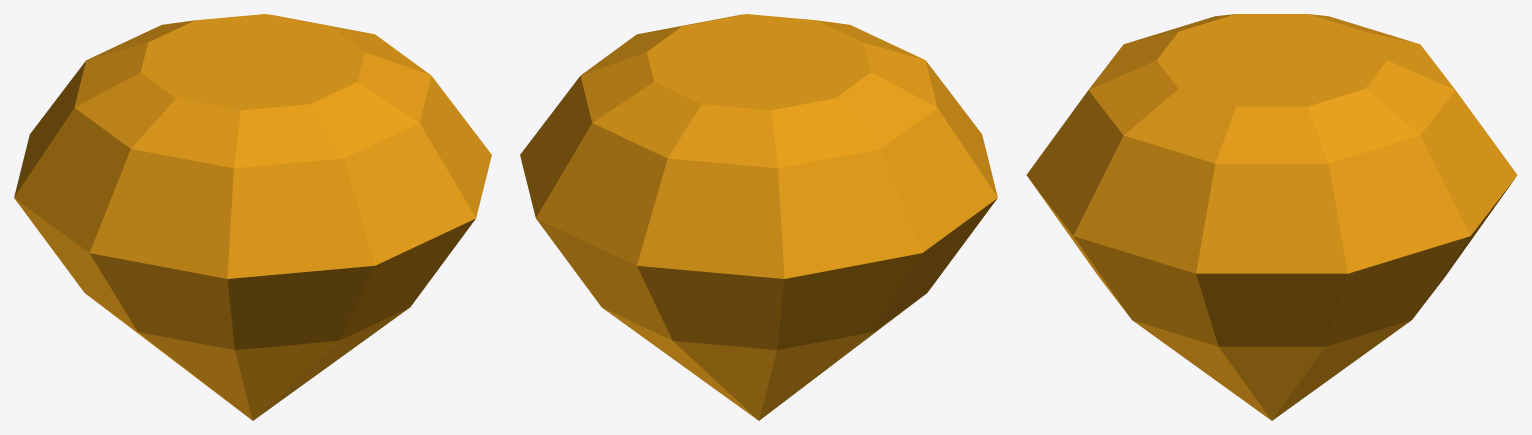
Rendered from punto2.glb.
The picture shows the model from 3 angles, left to right: view 1: azimuth 30°, elevation 25°; view 2: azimuth 150°, elevation 25°; view 3: azimuth 270°, elevation 25°; orthographic projection.
Parts seen in each view (by area): view 1: Cubo.026; view 2: Cubo.026; view 3: Cubo.026.
Part boxes in pixels (x1,y1,x2,y2): Cubo.026: [14, 14, 491, 420]; Cubo.026: [520, 14, 997, 420]; Cubo.026: [1026, 14, 1517, 420].
Size of the model in its own units: 0.0976 by 0.0832 by 0.1027.
